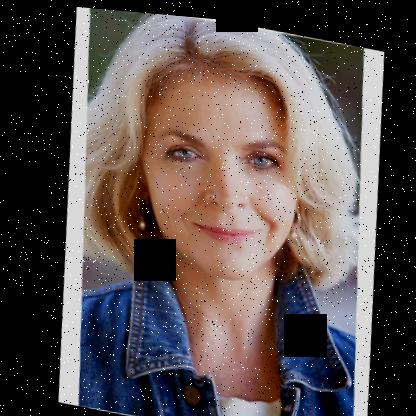Female: (120, 45, 320, 287)
